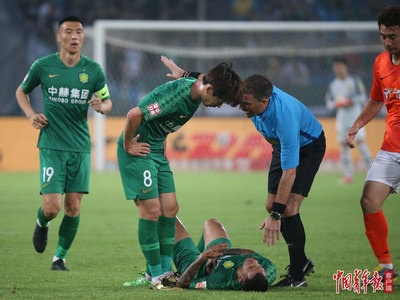falling: (158, 208, 284, 292)
